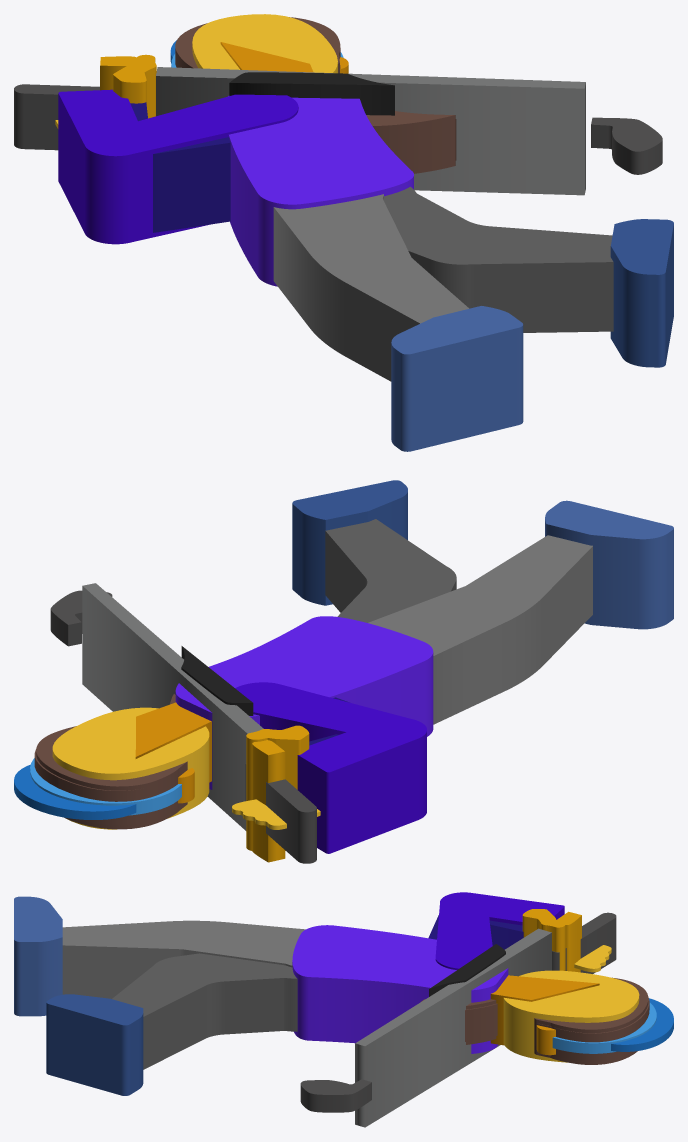
File: emoji_u1f3cc_200d_2640.glb
3 views of the same model, one above another, from view 1: azimuth 30°, elevation 25°; view 2: azimuth 150°, elevation 25°; view 3: azimuth 270°, elevation 25° (orthographic). The views are drawn at different scales.
Visible parts, largest first — view 1: emoji_u1f3cc_200d_2640; view 2: emoji_u1f3cc_200d_2640; view 3: emoji_u1f3cc_200d_2640.
Boxes of the visible parts, box(x1,y1,x2,y2) form: emoji_u1f3cc_200d_2640: box(14, 14, 673, 451); emoji_u1f3cc_200d_2640: box(14, 480, 673, 863); emoji_u1f3cc_200d_2640: box(14, 892, 673, 1127).
Size of the model in its own units: 0.0216 by 0.0052 by 0.0338.
